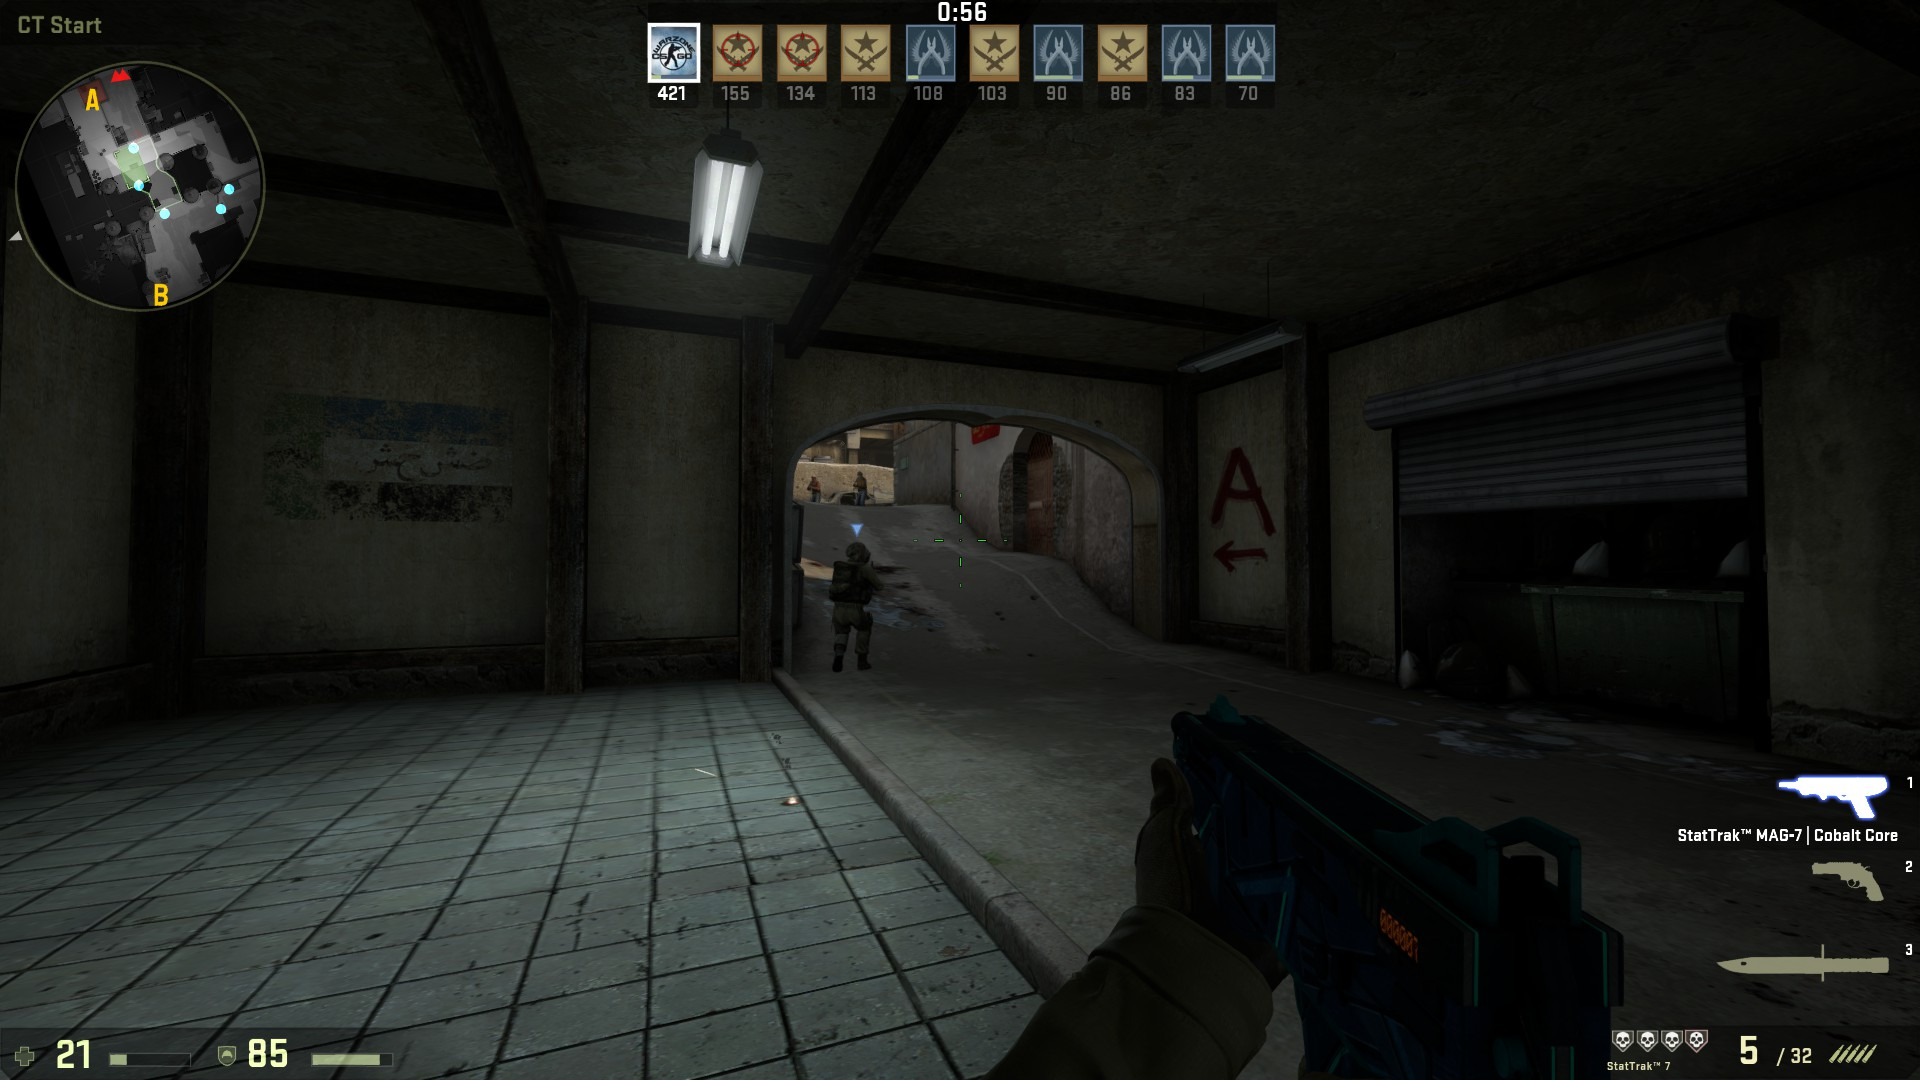c: (829, 543, 873, 671)
ch: (845, 543, 868, 568)
t: (853, 471, 866, 506), (808, 473, 822, 502)
